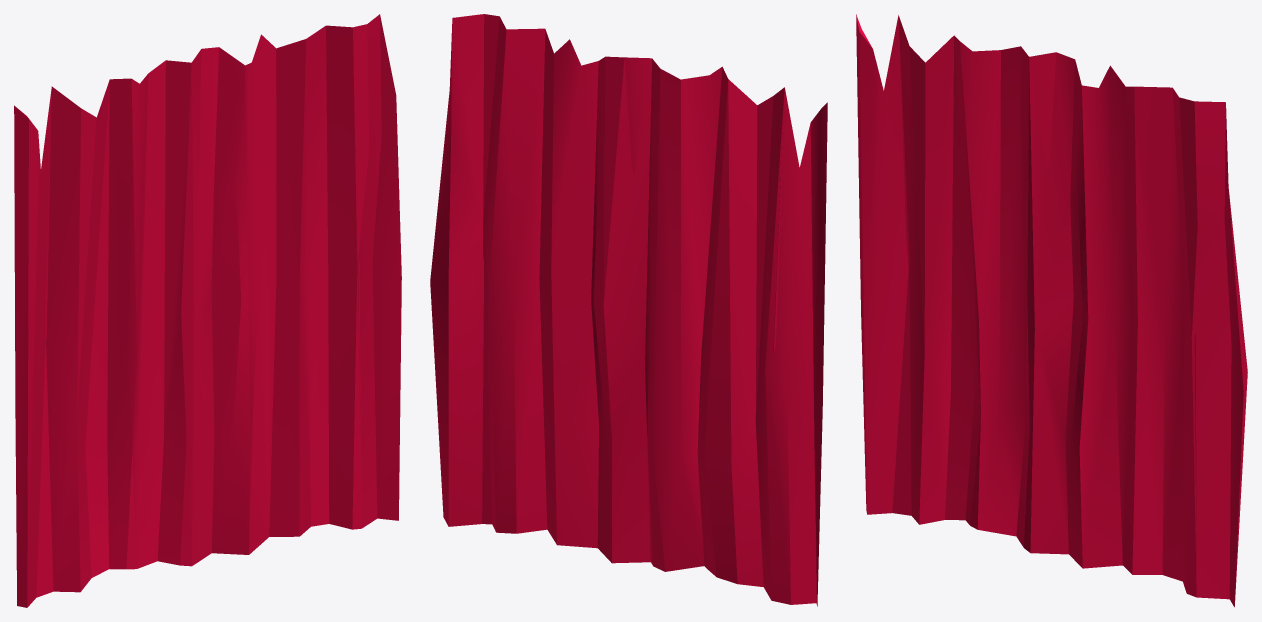
The model's file is panel11-lod1.fbx.
The picture shows the model from 3 angles, left to right: view 1: azimuth 30°, elevation 25°; view 2: azimuth 150°, elevation 25°; view 3: azimuth 330°, elevation 25°; orthographic projection.
Parts seen in each view (by area): view 1: panel11-lod1; view 2: panel11-lod1; view 3: panel11-lod1.
Boxes of the visible parts, box(x1,y1,x2,y2) form: panel11-lod1: box(14, 14, 401, 607); panel11-lod1: box(430, 14, 827, 606); panel11-lod1: box(856, 14, 1247, 607).
Bounding box in the file's own units: 0.5151 × 0.6477 × 0.0499.
